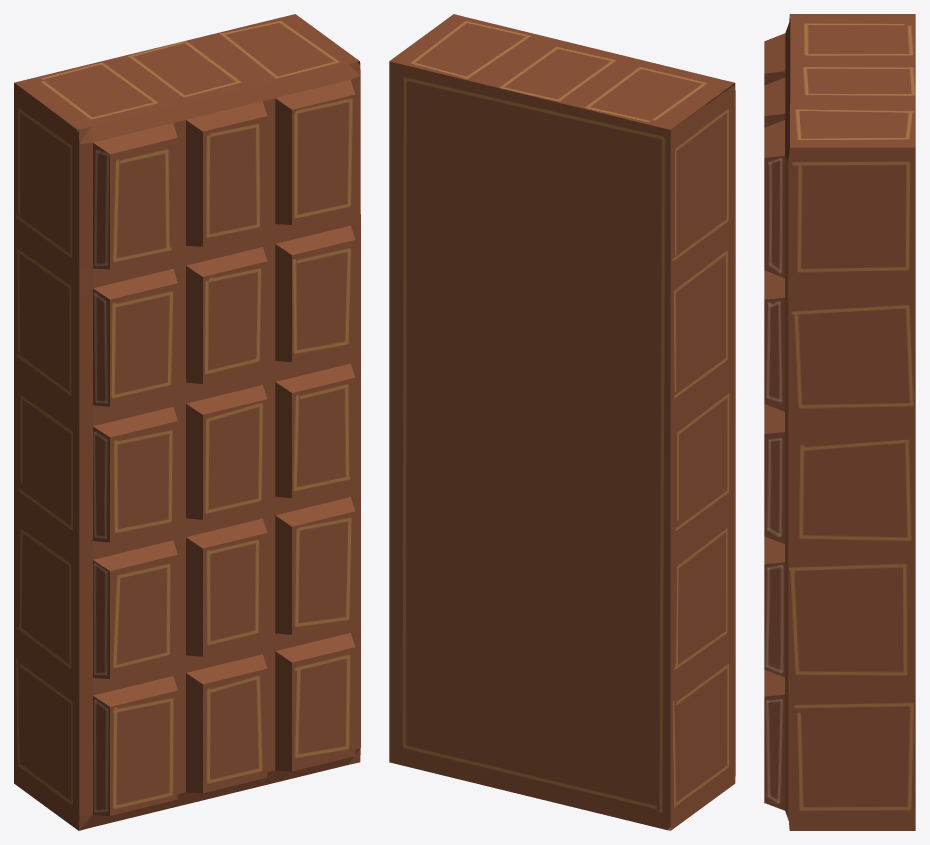
The model's file is Chocolatina con mani.fbx.
The picture shows the model from 3 angles, left to right: view 1: azimuth 30°, elevation 25°; view 2: azimuth 150°, elevation 25°; view 3: azimuth 270°, elevation 25°; orthographic projection. The views are drawn at different scales.
Visible parts, largest first — view 1: pCube1; view 2: pCube1; view 3: pCube1.
Part boxes in pixels (bbox=[...]): pCube1: bbox=[14, 14, 360, 830]; pCube1: bbox=[389, 14, 735, 830]; pCube1: bbox=[764, 14, 915, 830].
Bounding box in the file's own units: 26.92 × 64.09 × 12.89.
1 material, 1 textured.
